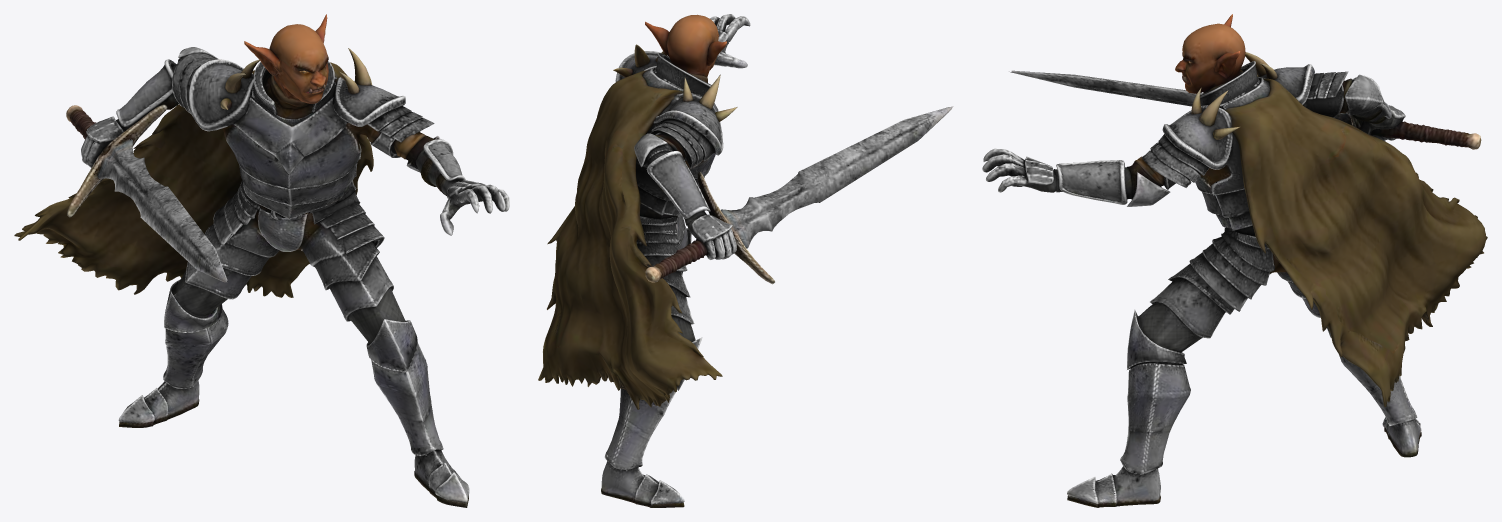
The model's file is MZ4250 - Hobgoblin Captain Male 2025.glb.
3 views of the same model, side by side, from view 1: azimuth 30°, elevation 25°; view 2: azimuth 150°, elevation 25°; view 3: azimuth 270°, elevation 25° (orthographic). The views are drawn at different scales.
Parts seen in each view (by area): view 1: Armor.002; view 2: Armor.002; view 3: Armor.002.
Part boxes in pixels (box(x1,y1,x2,y2)): Armor.002: box(14, 14, 509, 507); Armor.002: box(538, 14, 953, 507); Armor.002: box(982, 14, 1487, 507).
Size of the model in its own units: 57.14 by 84.51 by 89.59.
2 materials, 2 textured.
